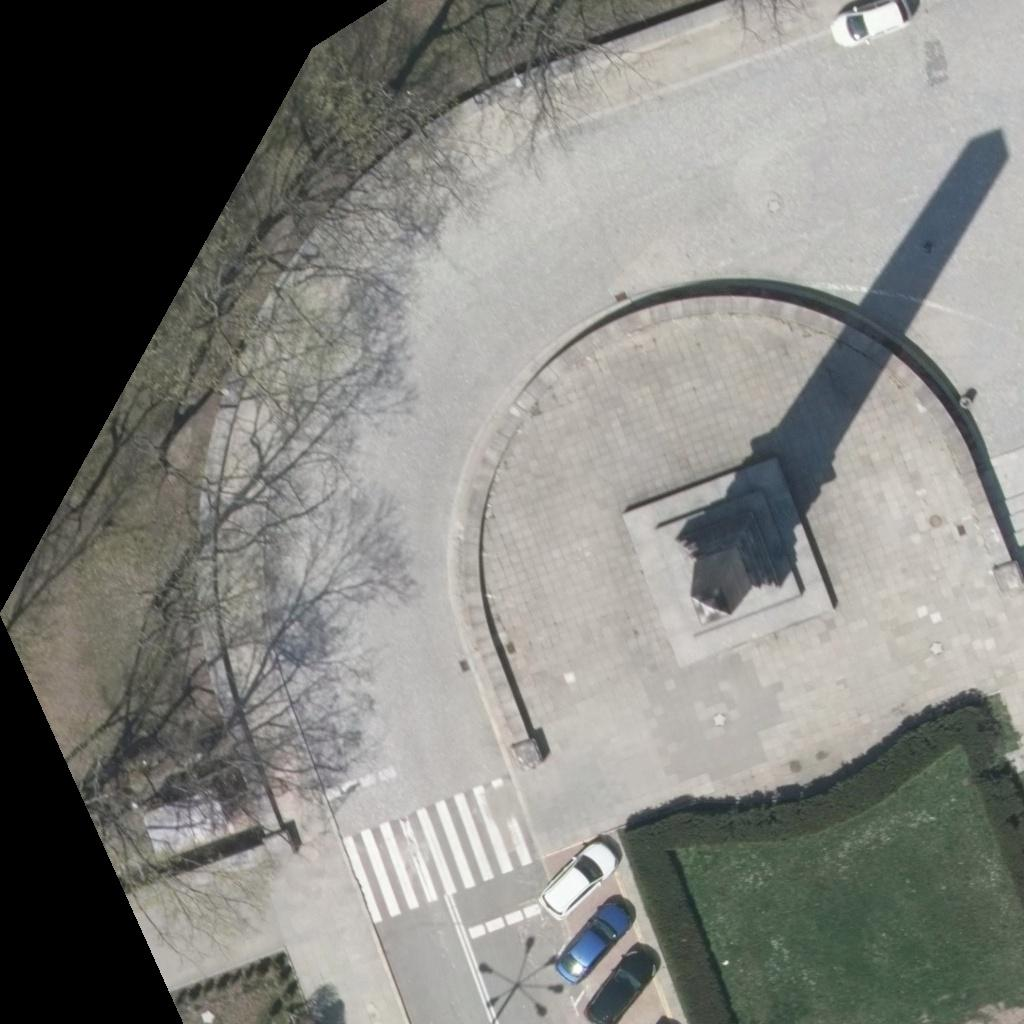samochod_osobowy: (549, 885, 643, 988), (532, 829, 630, 925), (576, 934, 671, 1023), (817, 0, 930, 58)
